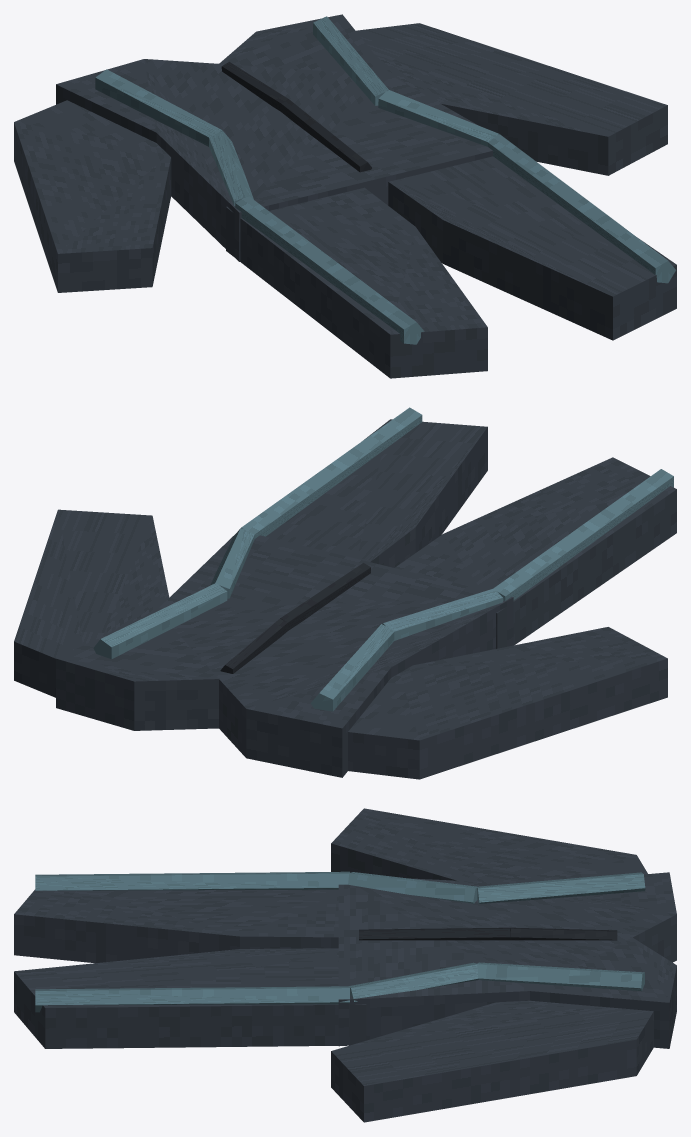
The model's file is wetsuit_thick.glb.
3 views of the same model, one above another, from view 1: azimuth 30°, elevation 25°; view 2: azimuth 150°, elevation 25°; view 3: azimuth 270°, elevation 25° (orthographic). The views are drawn at different scales.
Visible parts, largest first — view 1: block_leg (×2), block_sleeve (×2), block_one-piece torso, block_colored sealed stitching 2 (×2), block_colored sealed stitching 0 (×2), block_colored sealed stitching 1 (×2), block_body zip 1, block_body zip 0; view 2: block_one-piece torso, block_sleeve (×2), block_leg (×2), block_colored sealed stitching 2 (×2), block_colored sealed stitching 0 (×2), block_colored sealed stitching 1 (×2), block_body zip 1, block_body zip 0; view 3: block_leg (×2), block_sleeve (×2), block_one-piece torso, block_colored sealed stitching 2 (×2), block_colored sealed stitching 0 (×2), block_colored sealed stitching 1 (×2), block_body zip 1, block_body zip 0.
Part boxes in pixels (bbox=[...]): block_leg (×2): bbox=[226, 156, 676, 378]; block_sleeve (×2): bbox=[14, 23, 667, 292]; block_one-piece torso: bbox=[56, 14, 492, 261]; block_colored sealed stitching 2 (×2): bbox=[235, 134, 675, 344]; block_colored sealed stitching 0 (×2): bbox=[95, 16, 388, 146]; block_colored sealed stitching 1 (×2): bbox=[209, 90, 499, 205]; block_body zip 1: bbox=[281, 99, 371, 172]; block_body zip 0: bbox=[221, 61, 288, 111]; block_one-piece torso: bbox=[56, 534, 513, 777]; block_sleeve (×2): bbox=[14, 509, 667, 779]; block_leg (×2): bbox=[266, 419, 676, 648]; block_colored sealed stitching 2 (×2): bbox=[241, 407, 673, 600]; block_colored sealed stitching 0 (×2): bbox=[93, 583, 394, 711]; block_colored sealed stitching 1 (×2): bbox=[210, 528, 503, 640]; block_body zip 1: bbox=[280, 563, 370, 630]; block_body zip 0: bbox=[220, 618, 287, 673]; block_leg (×2): bbox=[14, 889, 366, 1048]; block_sleeve (×2): bbox=[331, 808, 653, 1122]; block_one-piece torso: bbox=[338, 872, 676, 1048]; block_colored sealed stitching 2 (×2): bbox=[35, 871, 349, 1012]; block_colored sealed stitching 0 (×2): bbox=[477, 872, 645, 991]; block_colored sealed stitching 1 (×2): bbox=[348, 872, 478, 1002]; block_body zip 1: bbox=[359, 927, 510, 940]; block_body zip 0: bbox=[510, 927, 617, 940].
Size of the model in its own units: 0.9403 by 0.0967 by 0.9485.
Materials: 1 (1 with a texture image).
